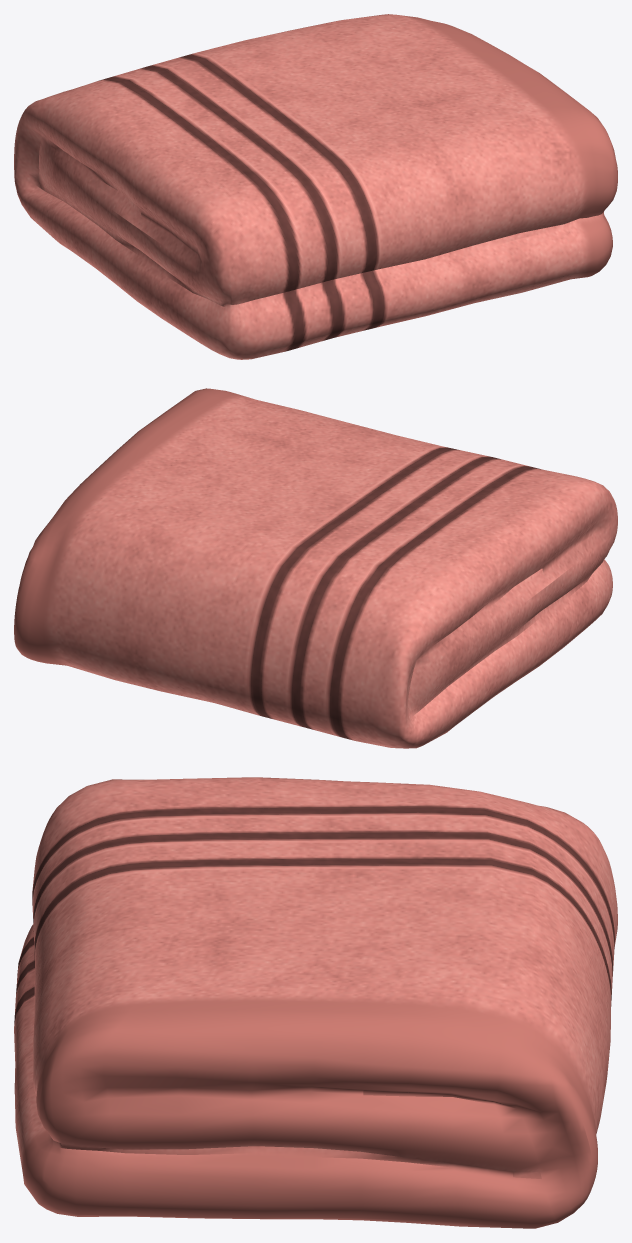
Rendered from SM_Towel_3.fbx.
3 renders of one model, top to bottom at view 1: azimuth 30°, elevation 25°; view 2: azimuth 150°, elevation 25°; view 3: azimuth 270°, elevation 25°, orthographic. The views are drawn at different scales.
Visible parts, largest first — view 1: SM_Towel_3; view 2: SM_Towel_3; view 3: SM_Towel_3.
Boxes of the visible parts, x1,y1,x2,y2 form: SM_Towel_3: (14, 14, 617, 359); SM_Towel_3: (14, 388, 617, 748); SM_Towel_3: (14, 777, 617, 1228).
Size of the model in its own units: 0.0874 by 0.0311 by 0.0812.
1 material, 1 textured.
